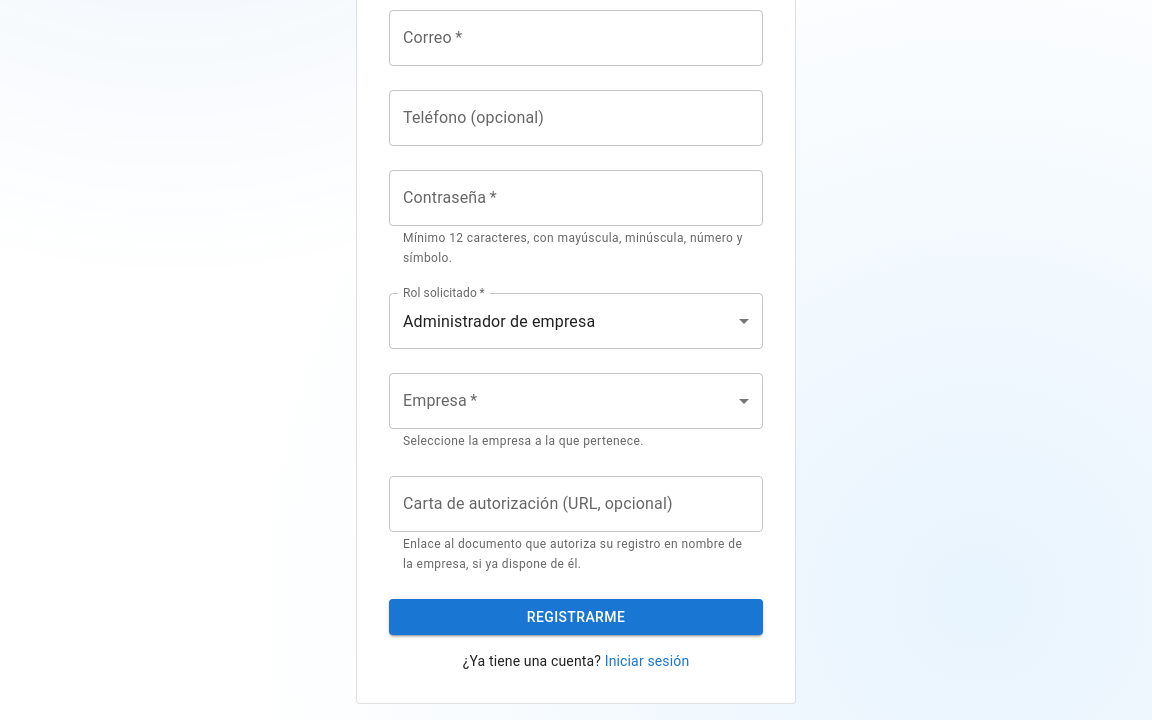
Registro › carga las empresas desde GET /empresas/publicas y las ofrece como opciones
(page scrolled)
Expected: the text "Seleccione la empresa a la que pertenece." is shown, [403, 434, 644, 448]
Click the dropdown named "Empresa" at (576, 401), box [389, 373, 763, 429]
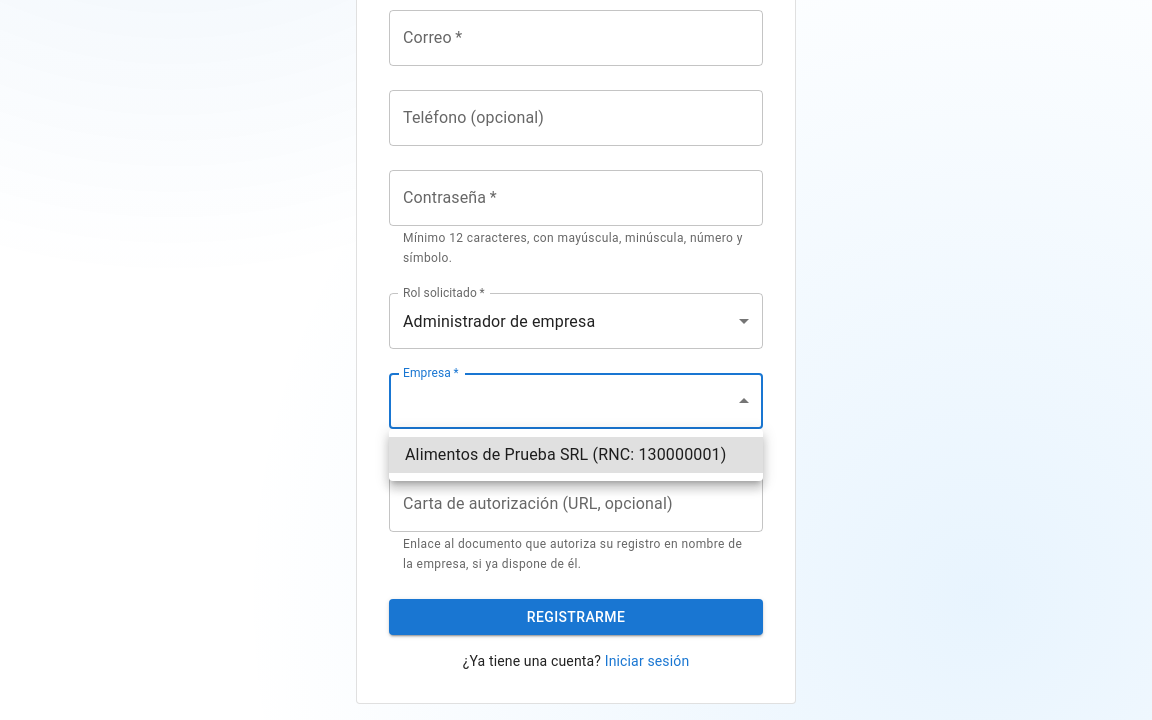
Result: the option "Alimentos de Prueba SRL (RNC: 130000001)" is shown at [389, 437, 763, 473]
